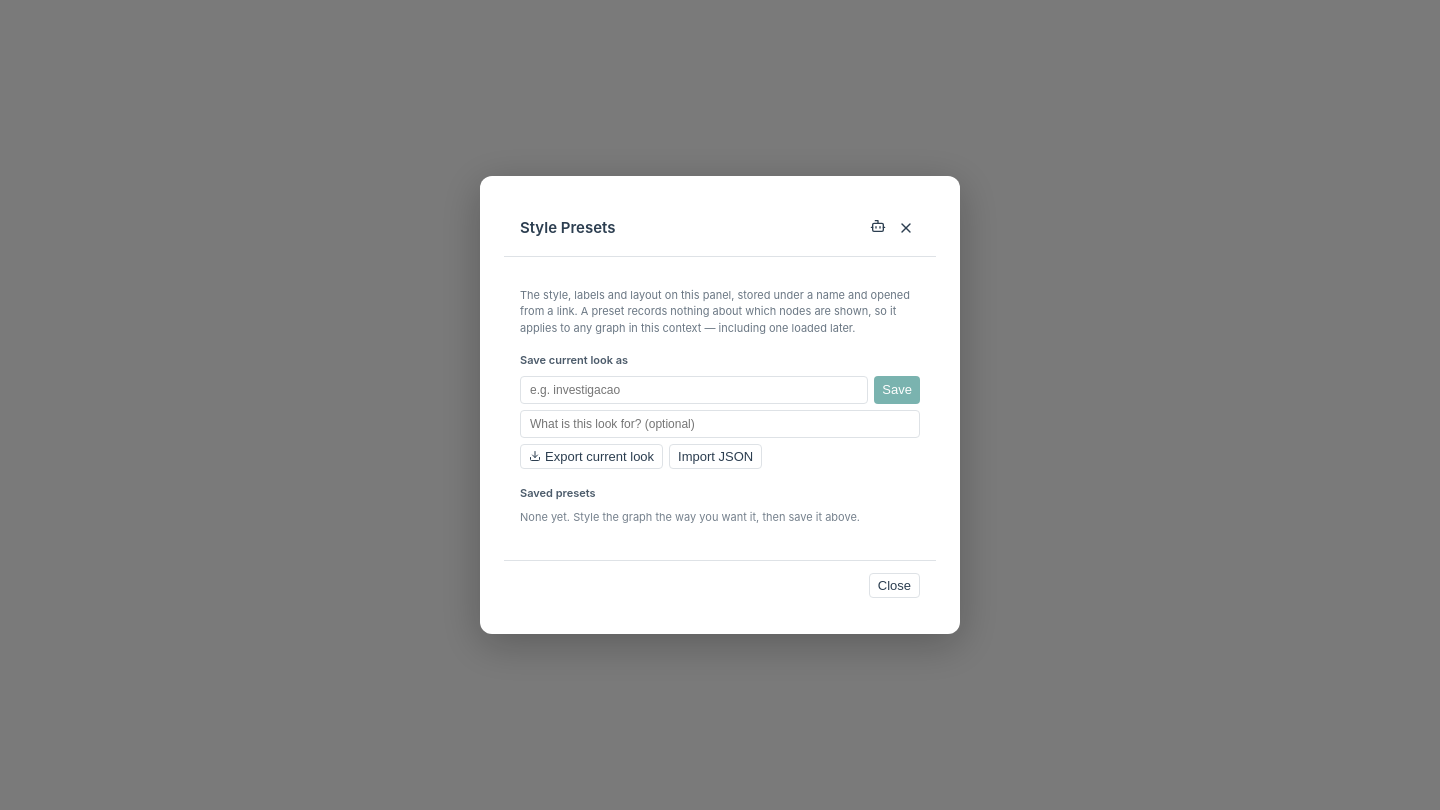
it: StylePresetModal › saving › rejects a name the backend would reject
The image size is (1440, 810).
Type "has spaces" into the field labelled "Save current look as" at (694, 390), box [520,376,868,404]
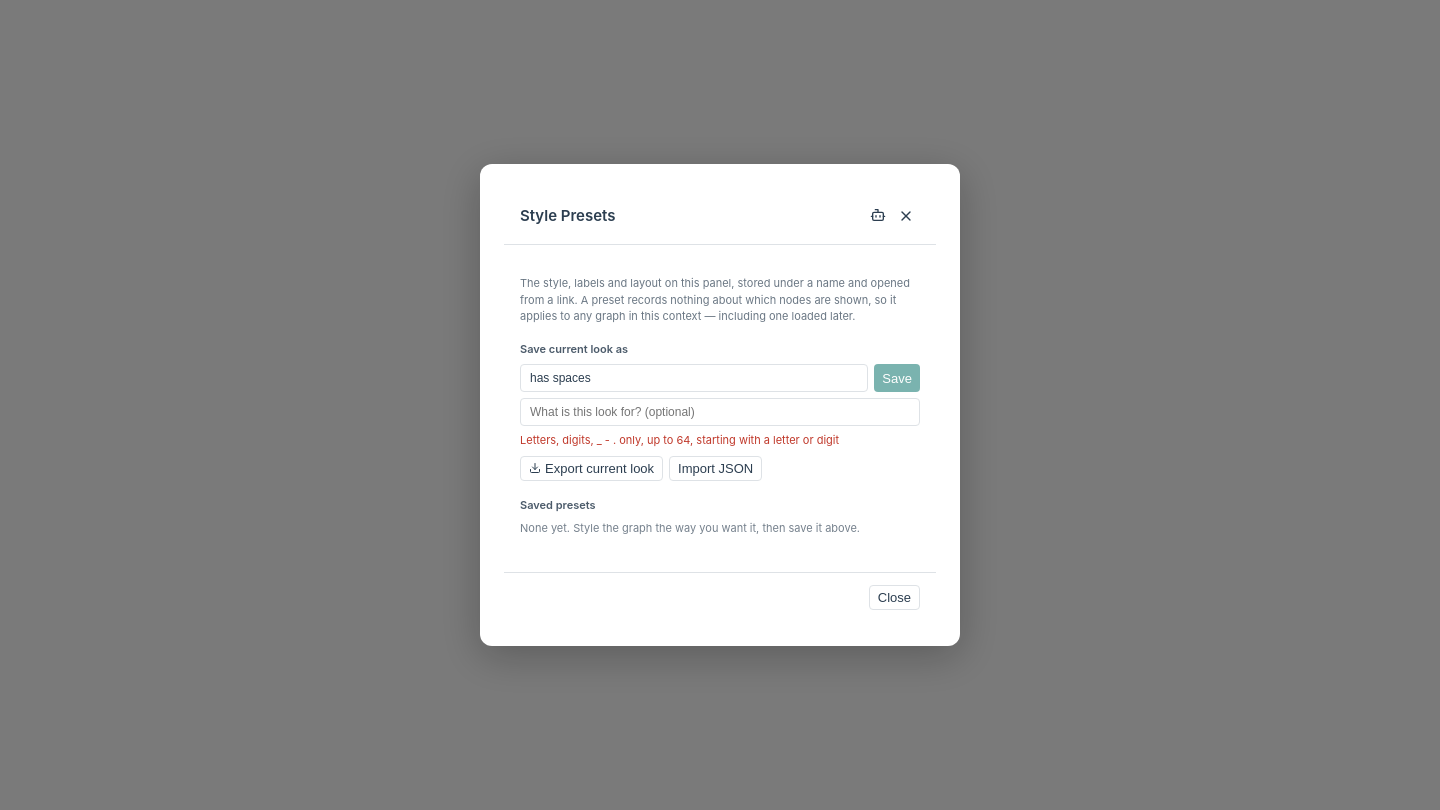
Expected: the text "Letters, digits" is shown, [520,433,839,447]
